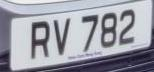2: (117, 6, 138, 50)
7: (79, 12, 101, 55)
8: (99, 10, 119, 52)
R: (27, 17, 53, 64)
V: (51, 14, 75, 61)
